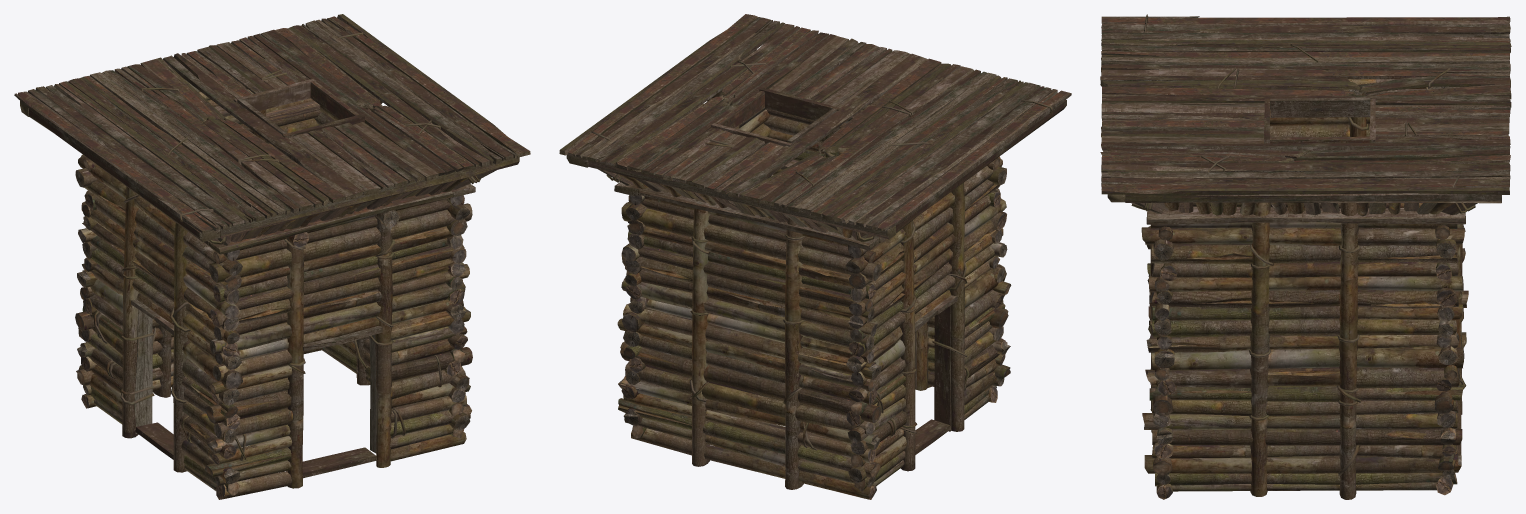
File: VIK_RAM_Camp_Tower_02A_LOD0-transformed.glb
3 views of the same model, side by side, from view 1: azimuth 30°, elevation 25°; view 2: azimuth 150°, elevation 25°; view 3: azimuth 270°, elevation 25° (orthographic). The views are drawn at different scales.
Parts seen in each view (by area): view 1: default; view 2: default; view 3: default.
Boxes of the visible parts, box(x1,y1,x2,y2) form: default: box(14, 14, 530, 499); default: box(559, 14, 1071, 499); default: box(1100, 14, 1511, 499).
Size of the model in its own units: 8.4 by 7.55 by 8.35.
6 materials, 6 textured.
